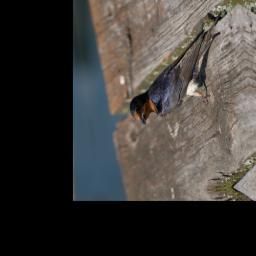Swallow: (117, 11, 238, 127)
